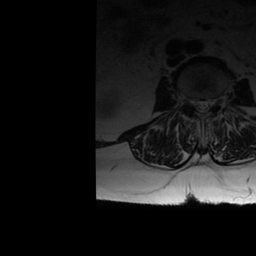CCS_normal: (200, 93, 204, 118)
LFS_normal: (211, 93, 218, 112)
LLS_normal: (205, 94, 211, 113)
RFS_normal: (185, 93, 193, 110)
RLS_normal: (193, 93, 199, 114)
